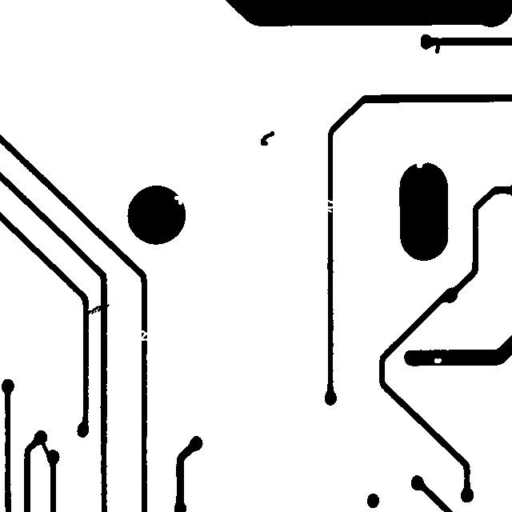copper: (253, 123, 282, 153)
mousebite: (409, 150, 435, 175), (166, 188, 190, 212)
open: (313, 190, 342, 220), (131, 322, 158, 348)
pin-hole: (426, 350, 449, 370)
short: (75, 296, 117, 322), (32, 429, 59, 468)
spur: (427, 32, 447, 61)
